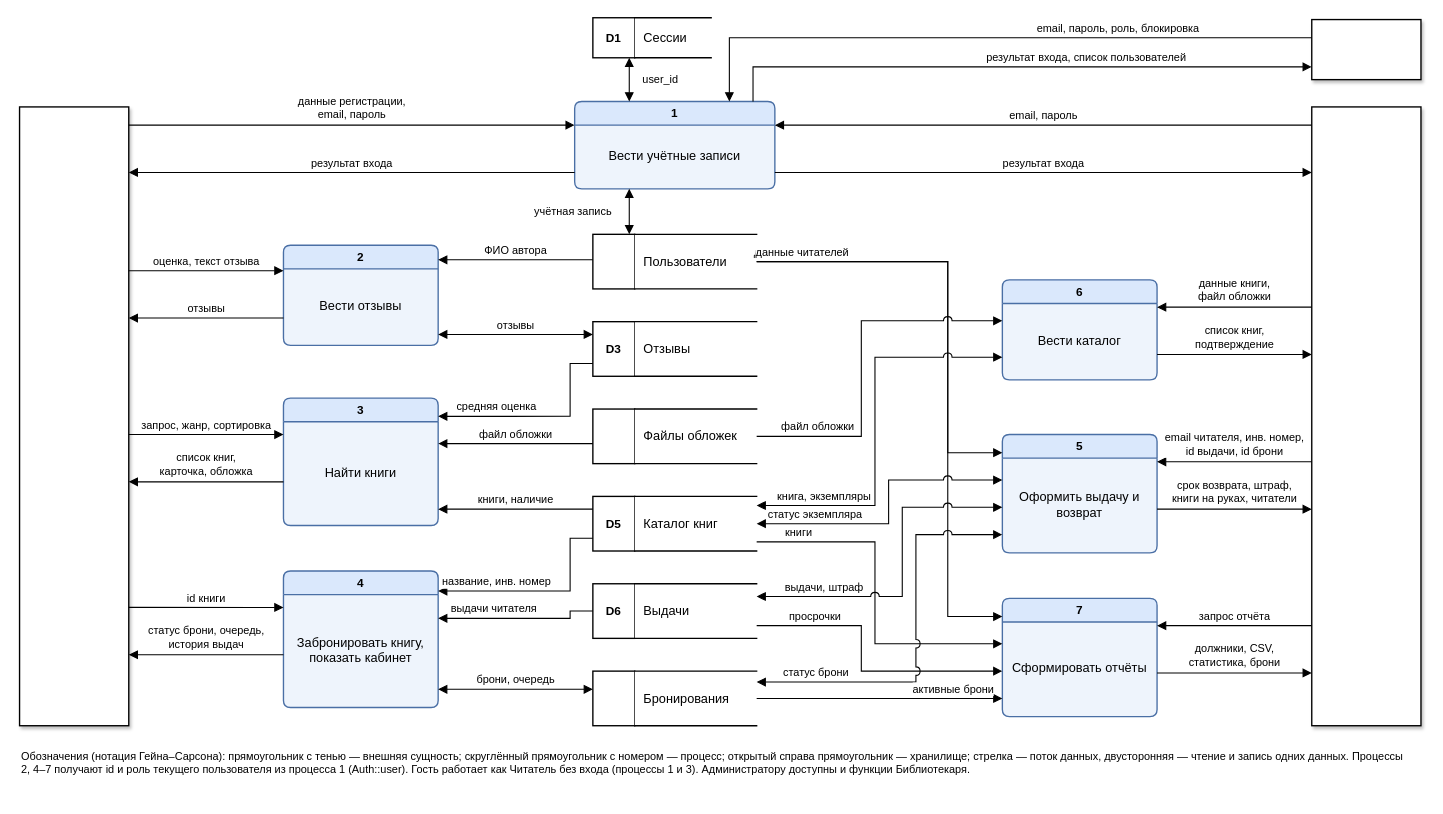
This 1443x814 diagram has some shape labels left out. Here are the shapes that lost their labels. From the top down, the centre of each, then its label:
At [1367,50]: "Администратор".
At [613,261]: "D2".
At [74,417]: "Читатель".
At [613,436]: "D4".
At [1367,417]: "Библиотекарь".
At [613,698]: "D7".
